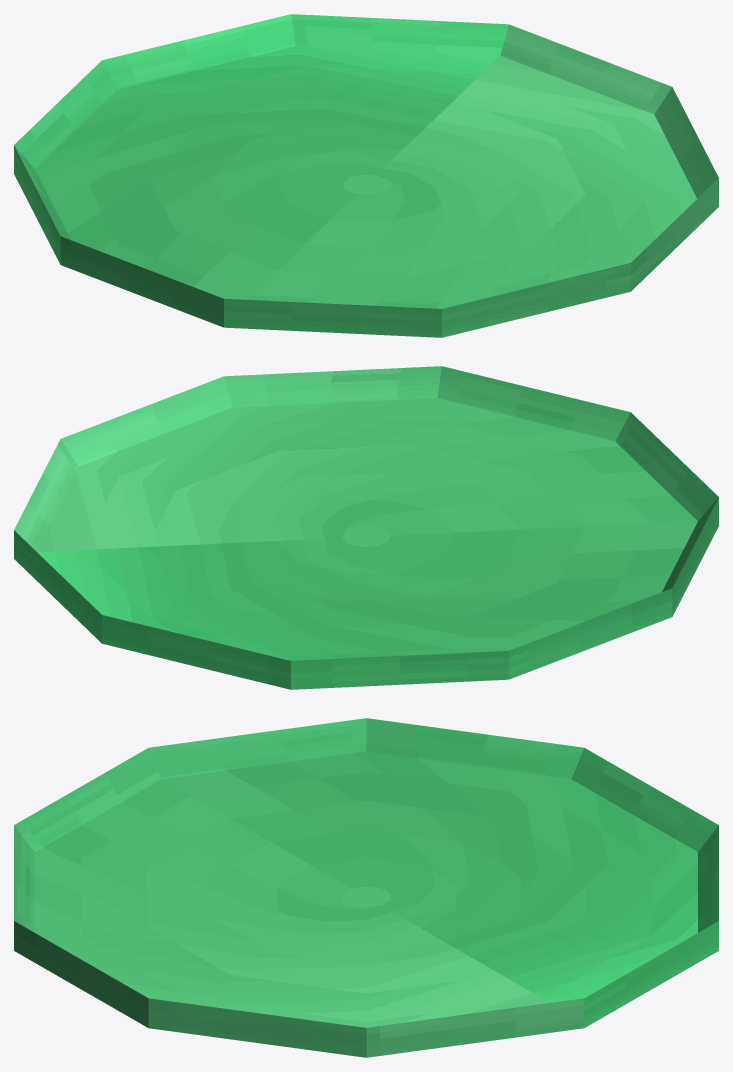
The model's file is items__lilypad.glb.
3 renders of one model, top to bottom at view 1: azimuth 30°, elevation 25°; view 2: azimuth 150°, elevation 25°; view 3: azimuth 270°, elevation 25°, orthographic. The views are drawn at different scales.
Parts seen in each view (by area): view 1: lilypad8; view 2: lilypad8; view 3: lilypad8.
Boxes of the visible parts, x1,y1,x2,y2 form: lilypad8: [14, 14, 718, 337]; lilypad8: [14, 366, 718, 689]; lilypad8: [14, 718, 718, 1057].
Bounding box in the file's own units: 59.55 × 2.69 × 57.28.
1 material, 1 textured.
